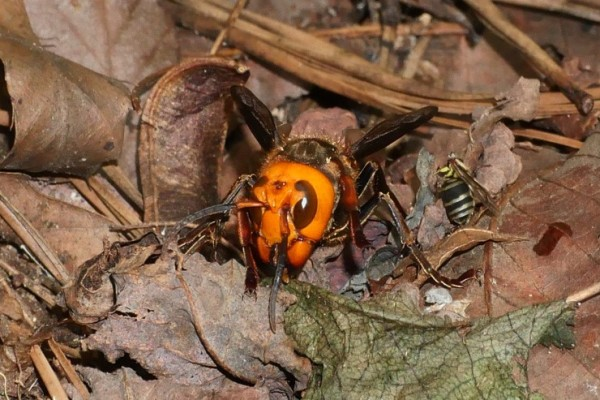asian_giant_hornet: (173, 97, 441, 298)
